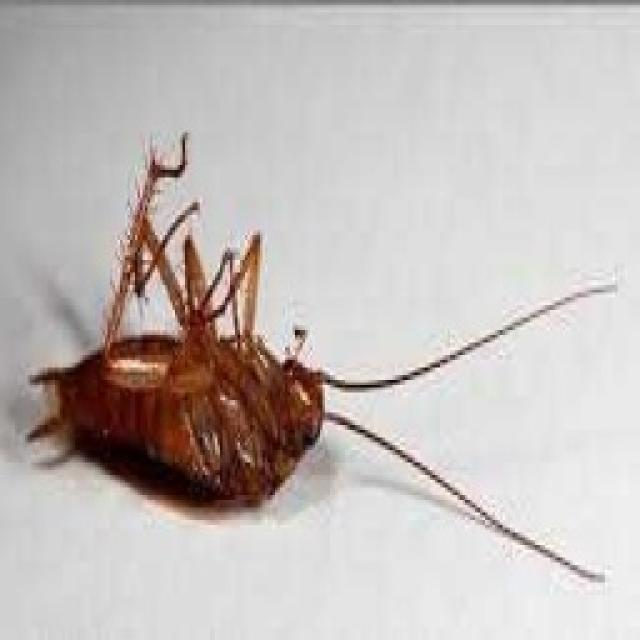cockroach: (37, 330, 328, 509)
